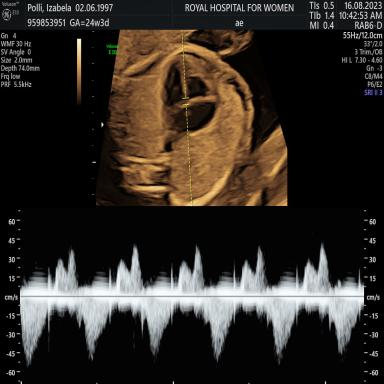Ultrasound-Waves: (26, 217, 362, 384)
